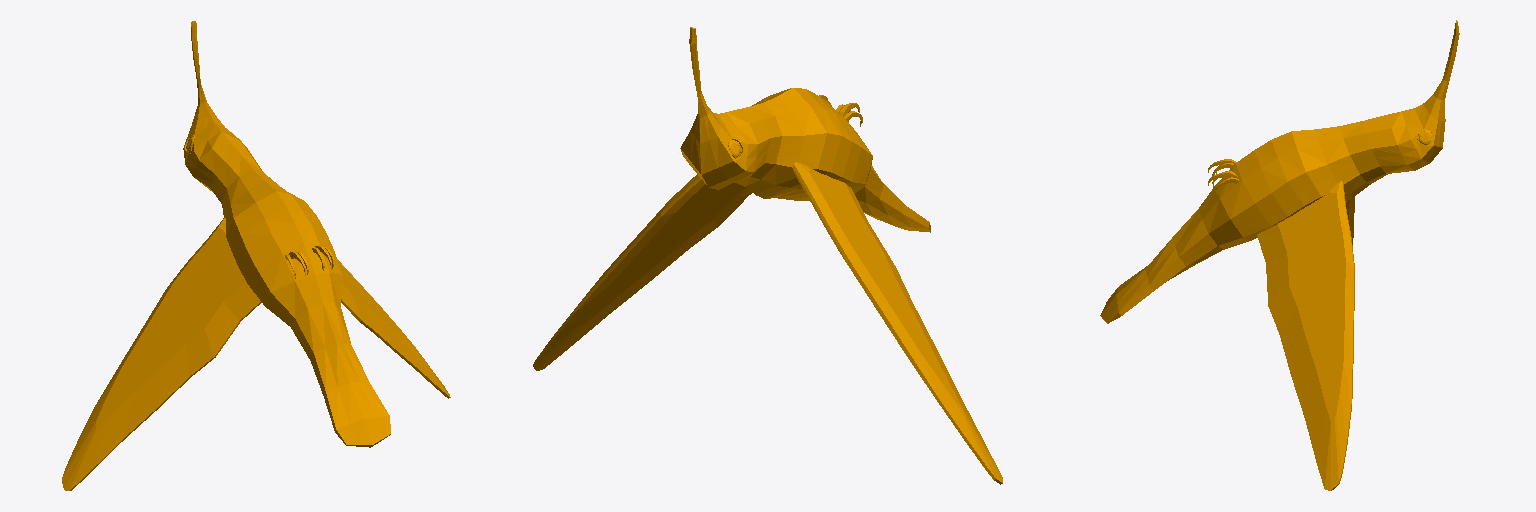
robot.urdf — hummingbird:
<?xml version="1.0"?>
<robot name="hummingbird">

  <!-- Body Link -->
  <link name="body">
    <!-- Visual representation of the model -->
    <visual>
      <geometry>
        <!-- Path to the .obj model file -->
        <mesh filename="bird_model.obj" scale="1 1 1"/>
      </geometry>
      <material name="white"/>
    </visual>

    <!-- Collision geometry (if you want collision detection) -->
    <collision>
      <geometry>
        <!-- Path to the .obj model for collision -->
        <mesh filename="bird_model.obj" scale="1 1 1"/>
      </geometry>
    </collision>
  </link>

</robot>

--- Facts derived from the render (not from the file) ---
Views: 3 orthographic renders of the robot side by side, from view 1: azimuth 30°, elevation 25°; view 2: azimuth 150°, elevation 25°; view 3: azimuth 270°, elevation 25°.
Robot: hummingbird — 1 links, 0 joints (none); root link body; default pose: all joints at 0.
Links seen in each view (by area): view 1: body; view 2: body; view 3: body.
Link boxes in pixels (left/top/right/bottom): body: left=62, top=21, right=450, bottom=490; body: left=533, top=27, right=1002, bottom=484; body: left=1100, top=20, right=1459, bottom=490.
Size in the robot's own frame: 3.07 by 2.48 by 2.87 metres.
1 mesh visuals loaded from 1 distinct referenced files (1 OBJ).